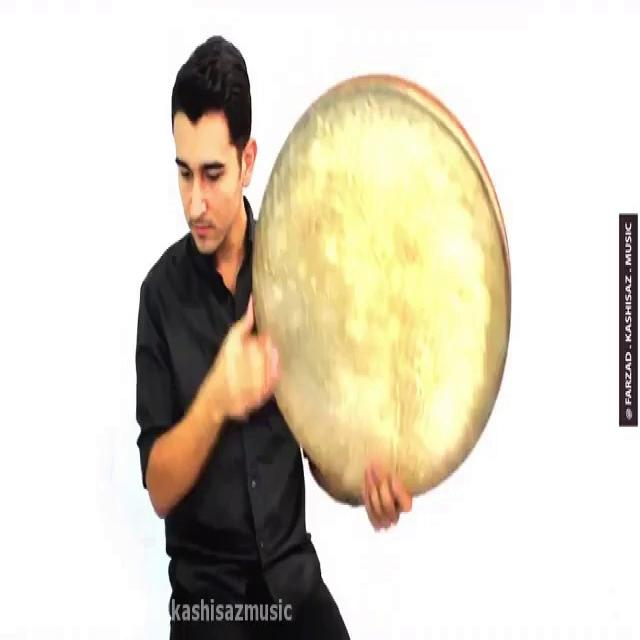Daf: (254, 68, 510, 510)
